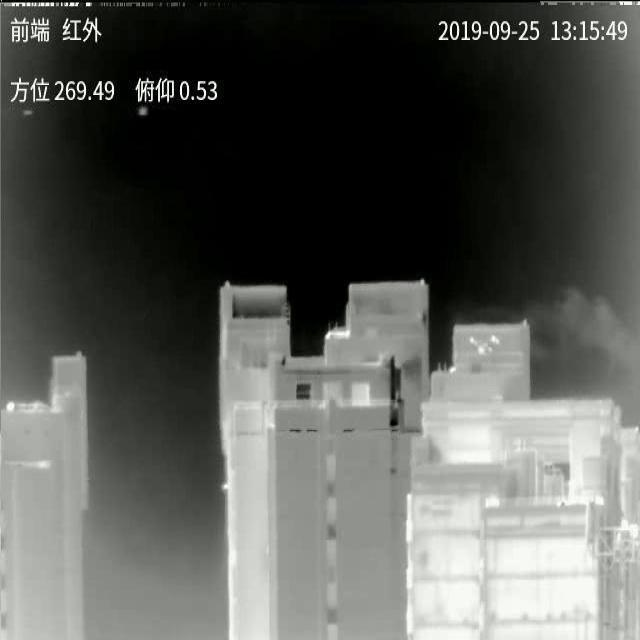drone: (469, 335, 501, 356)
